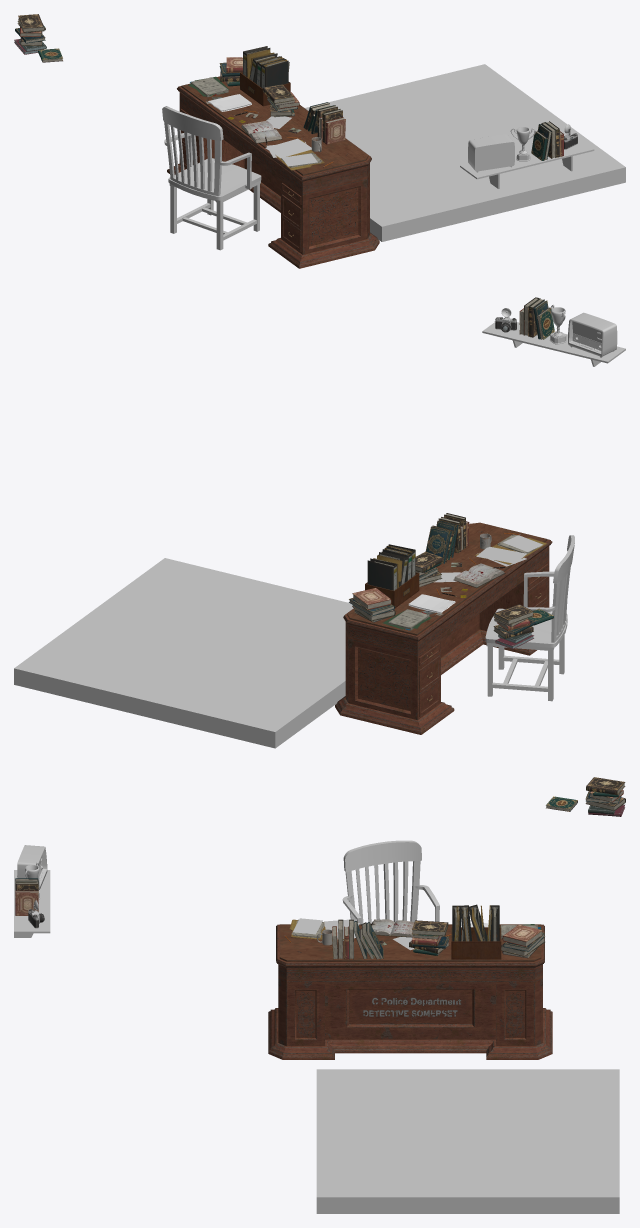
File: 侦探办公室1.fbx
The picture shows the model from 3 angles, top to bottom: view 1: azimuth 30°, elevation 25°; view 2: azimuth 150°, elevation 25°; view 3: azimuth 270°, elevation 25°; orthographic projection. The views are drawn at different scales.
Parts seen in each view (by area): view 1: Ground_5_StaticMeshComponent0, Desk_171_StaticMeshComponent0, Desk2_StaticMeshComponent0, Radio_28_StaticMeshComponent0, WoodenFloor_18_StaticMeshComponent0, Documents_Holder_1975_StaticMeshComponent0.001, Book_02_5_StaticMeshComponent0, FileCupboard_Base2_StaticMeshComponent0, 647ae217f6e1fc70c46a2952d77f36f3.001, Book_63_StaticMeshComponent0, 立方体, Documents_PaperBox5_281_StaticMeshComponent0 (+3 smaller); view 2: Ground_5_StaticMeshComponent0, Desk_171_StaticMeshComponent0, Desk2_StaticMeshComponent0, Radio_28_StaticMeshComponent0, WoodenFloor_18_StaticMeshComponent0, Documents_Holder_39_StaticMeshComponent0.002, Book_02_5_StaticMeshComponent0, FileCupboard_Base2_StaticMeshComponent0, Book_66_StaticMeshComponent0; view 3: Ground_5_StaticMeshComponent0, Desk_171_StaticMeshComponent0, Desk2_StaticMeshComponent0, WoodenFloor_18_StaticMeshComponent0, FileCupboard_Base2_StaticMeshComponent0, Radio_28_StaticMeshComponent0, Book_02_5_StaticMeshComponent0, Book_71_StaticMeshComponent0.
Boxes of the visible parts, x1,y1,x2,y2 form: Ground_5_StaticMeshComponent0: (305, 64, 625, 241); Desk_171_StaticMeshComponent0: (167, 76, 379, 268); Desk2_StaticMeshComponent0: (162, 106, 261, 250); Radio_28_StaticMeshComponent0: (468, 134, 514, 172); WoodenFloor_18_StaticMeshComponent0: (460, 138, 594, 188); Documents_Holder_1975_StaticMeshComponent0.001: (261, 59, 288, 88); Book_02_5_StaticMeshComponent0: (241, 120, 282, 143); FileCupboard_Base2_StaticMeshComponent0: (240, 72, 290, 106); 647ae217f6e1fc70c46a2952d77f36f3.001: (265, 138, 311, 158); Book_63_StaticMeshComponent0: (325, 117, 345, 144); 立方体: (208, 94, 251, 111); Documents_PaperBox5_281_StaticMeshComponent0: (190, 77, 228, 97); Ground_5_StaticMeshComponent0: (14, 558, 353, 748); Desk_171_StaticMeshComponent0: (335, 522, 552, 734); Desk2_StaticMeshComponent0: (485, 535, 574, 701); Radio_28_StaticMeshComponent0: (568, 312, 617, 357); WoodenFloor_18_StaticMeshComponent0: (482, 322, 625, 366); Documents_Holder_39_StaticMeshComponent0.002: (367, 558, 397, 590); Book_02_5_StaticMeshComponent0: (453, 563, 504, 587); FileCupboard_Base2_StaticMeshComponent0: (365, 572, 419, 608); Book_66_StaticMeshComponent0: (425, 526, 451, 563); Ground_5_StaticMeshComponent0: (316, 1069, 619, 1213); Desk_171_StaticMeshComponent0: (268, 924, 552, 1059); Desk2_StaticMeshComponent0: (342, 840, 439, 924); WoodenFloor_18_StaticMeshComponent0: (14, 870, 50, 937); FileCupboard_Base2_StaticMeshComponent0: (451, 927, 501, 959); Radio_28_StaticMeshComponent0: (17, 845, 47, 890); Book_02_5_StaticMeshComponent0: (371, 919, 414, 937); Book_71_StaticMeshComponent0: (502, 924, 542, 946).
Size of the model in its own units: 4767 by 2002 by 4949.
